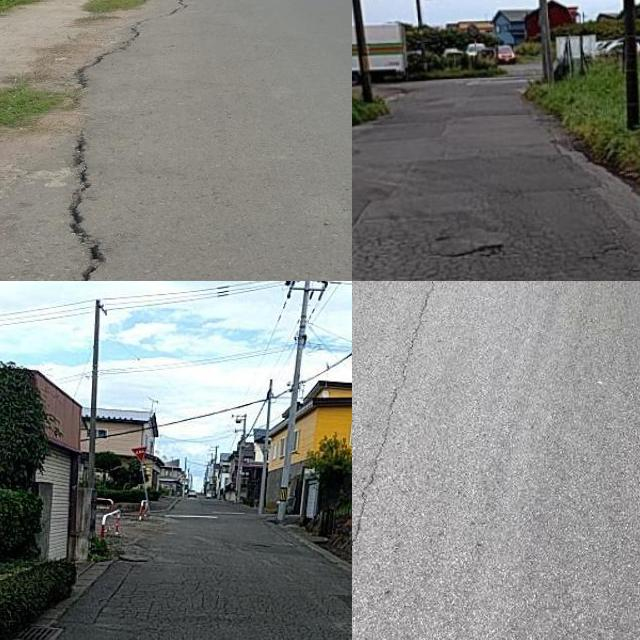Memanjang: (48, 0, 197, 281), (352, 281, 448, 613)
